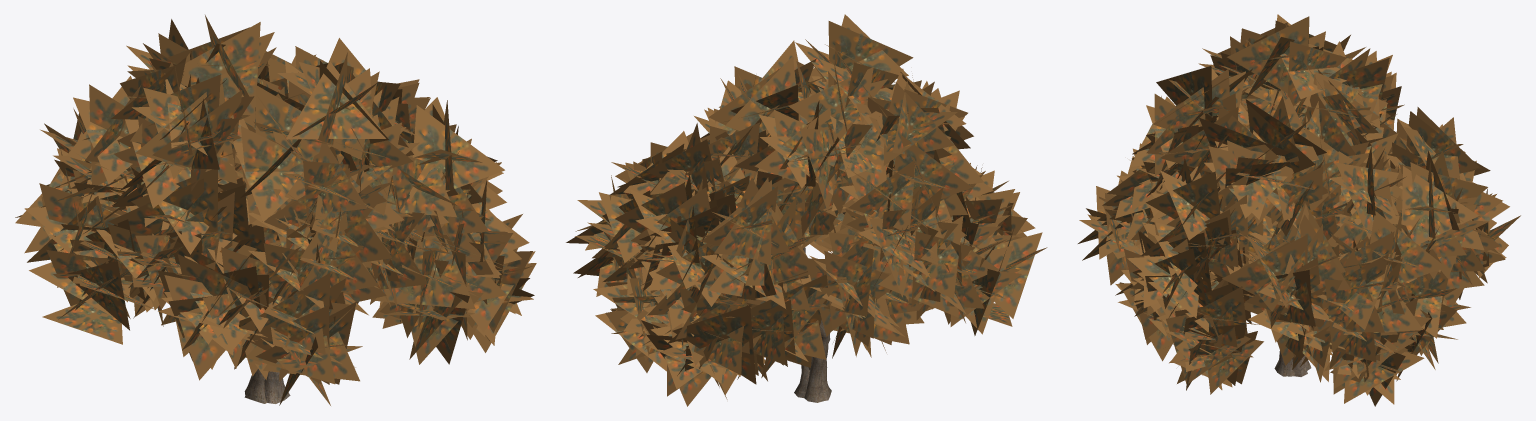
Rendered from Cerasus_Yedoensis_Autumn_Adult.glb.
3 views of the same model, side by side, from view 1: azimuth 30°, elevation 25°; view 2: azimuth 150°, elevation 25°; view 3: azimuth 270°, elevation 25° (orthographic). The views are drawn at different scales.
Parts seen in each view (by area): view 1: Cerasus_Yedoensis_Autumn_Adult__LOD3; view 2: Cerasus_Yedoensis_Autumn_Adult__LOD3; view 3: Cerasus_Yedoensis_Autumn_Adult__LOD3.
Boxes of the visible parts, <box> form: Cerasus_Yedoensis_Autumn_Adult__LOD3: <box>15,15,536,405</box>; Cerasus_Yedoensis_Autumn_Adult__LOD3: <box>566,14,1047,406</box>; Cerasus_Yedoensis_Autumn_Adult__LOD3: <box>1078,14,1520,406</box>.
Size of the model in its own units: 14.33 by 11.64 by 14.17.
Materials: 2 (2 with a texture image).
